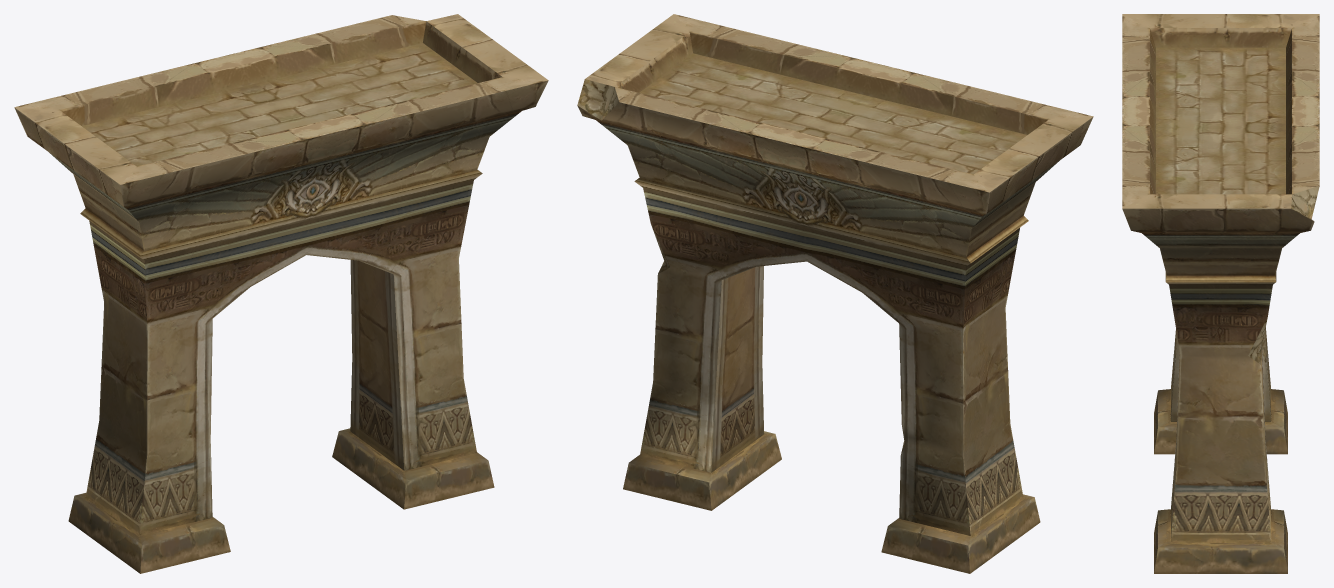
The model's file is lv7_door_1.FBX.
3 renders of one model, left to right at view 1: azimuth 30°, elevation 25°; view 2: azimuth 150°, elevation 25°; view 3: azimuth 270°, elevation 25°, orthographic. The views are drawn at different scales.
Visible parts, largest first — view 1: lv7_door_1; view 2: lv7_door_1; view 3: lv7_door_1.
Part boxes in pixels (x1=…): lv7_door_1: x1=14, y1=14, x2=548, y2=573; lv7_door_1: x1=577, y1=14, x2=1093, y2=573; lv7_door_1: x1=1122, y1=14, x2=1319, y2=573.
Size of the model in its own units: 780 by 714 by 335.
